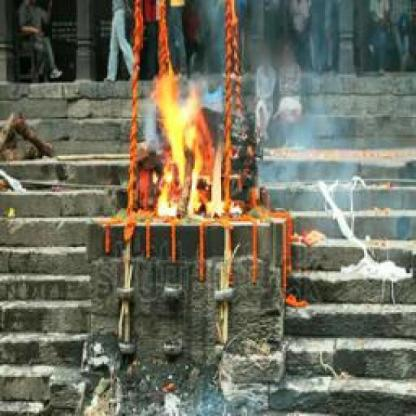fire: (151, 70, 238, 221)
